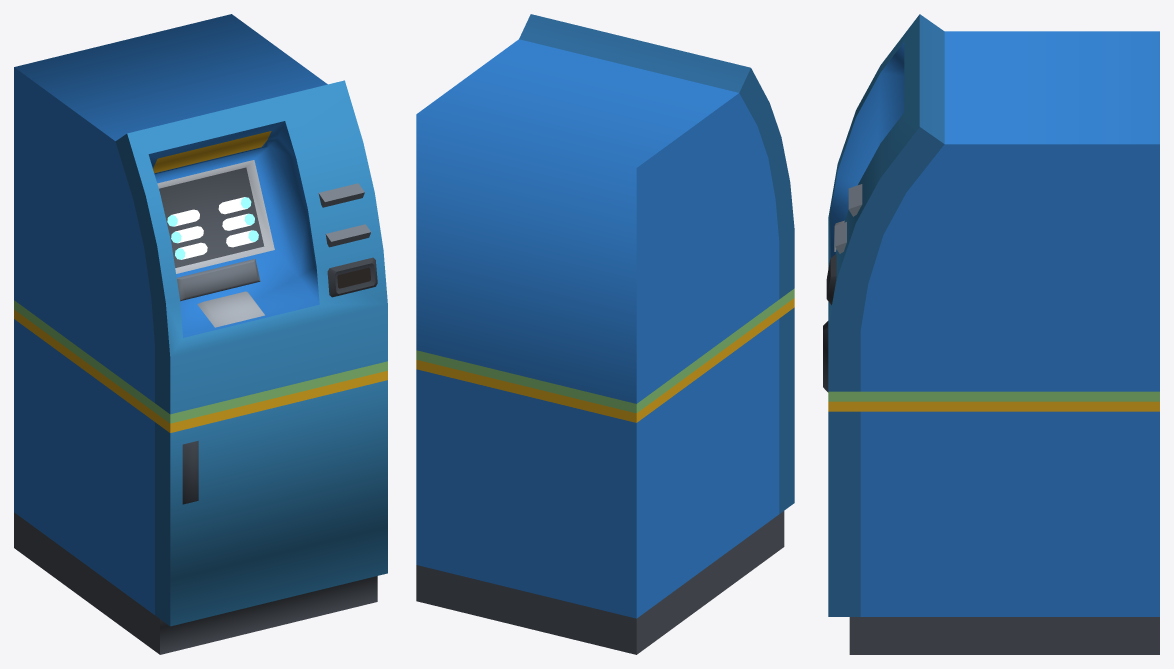
File: caixa_eletronico_azul_pacote.glb
The picture shows the model from 3 angles, left to right: view 1: azimuth 30°, elevation 25°; view 2: azimuth 150°, elevation 25°; view 3: azimuth 270°, elevation 25°; orthographic projection. The views are drawn at different scales.
Visible parts, largest first — view 1: caixa_eletronico_azul_pacote; view 2: caixa_eletronico_azul_pacote; view 3: caixa_eletronico_azul_pacote.
Boxes of the visible parts, box(x1,y1,x2,y2) form: caixa_eletronico_azul_pacote: box(14, 14, 387, 654); caixa_eletronico_azul_pacote: box(416, 14, 794, 654); caixa_eletronico_azul_pacote: box(823, 14, 1159, 654).
Bounding box in the file's own units: 0.7923 × 1.73 × 0.9999.
3 materials, 1 textured.
